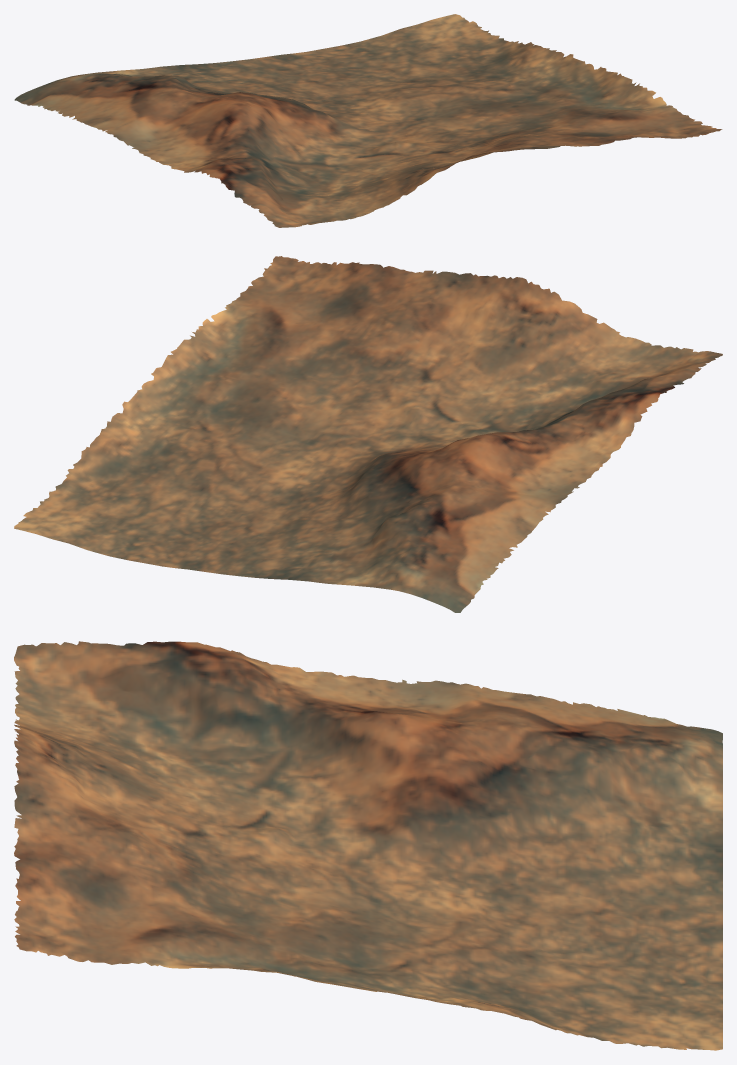
File: terrain_export_2_low.dae
3 renders of one model, top to bottom at view 1: azimuth 30°, elevation 25°; view 2: azimuth 150°, elevation 25°; view 3: azimuth 270°, elevation 25°, orthographic. The views are drawn at different scales.
Parts seen in each view (by area): view 1: M2E; view 2: M2E; view 3: M2E.
Part boxes in pixels (x1=…): M2E: x1=14, y1=14, x2=722, y2=227; M2E: x1=14, y1=256, x2=722, y2=612; M2E: x1=14, y1=641, x2=722, y2=1050.
Size of the model in its own units: 159 by 164 by 39.96.
Materials: 1 (1 with a texture image).
